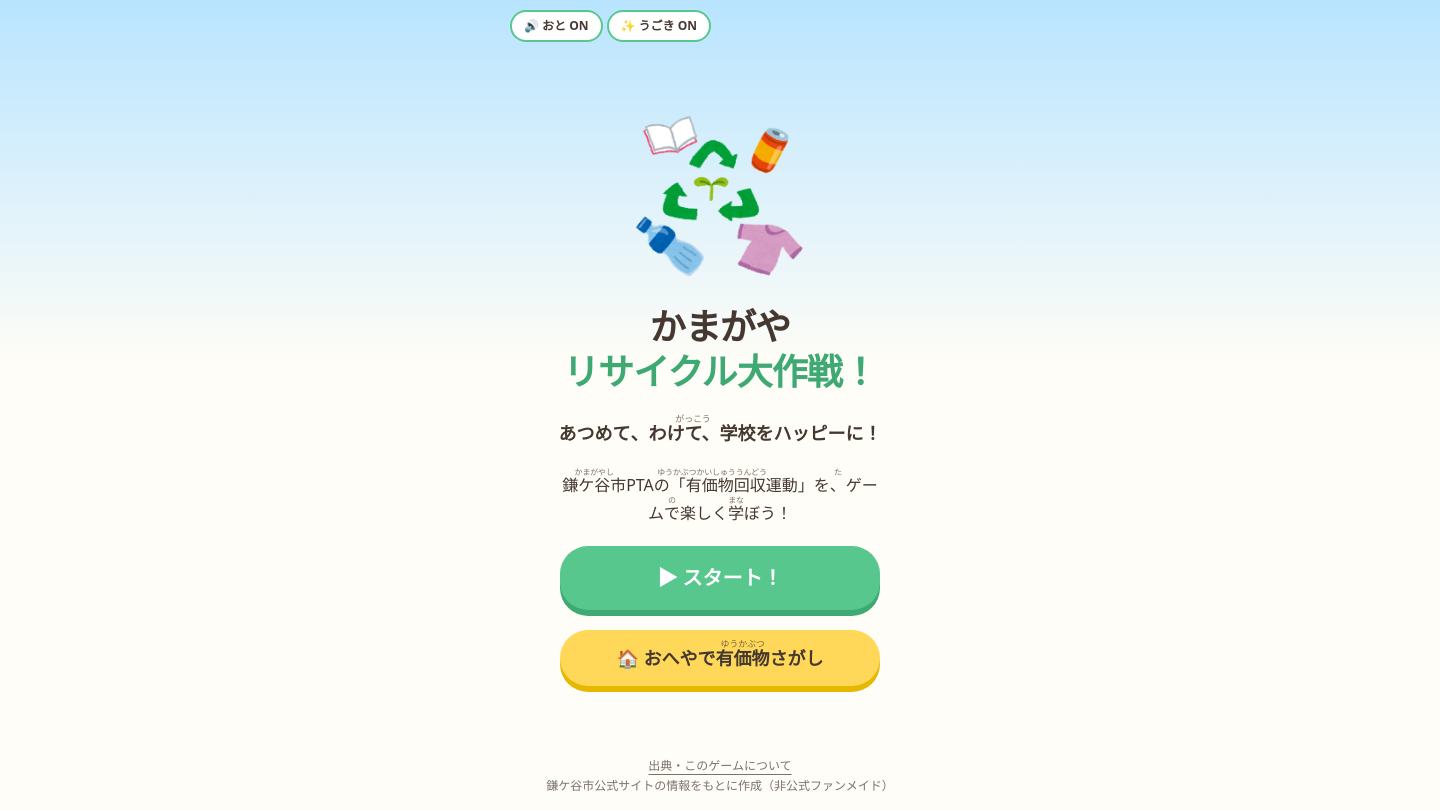
Test: App › タイトル画面からステージ1に進める
Expected: the element with test id "screen-title" is shown, [496, 0, 944, 809]
Click the button with test id "start" at (720, 578), box [560, 546, 880, 610]
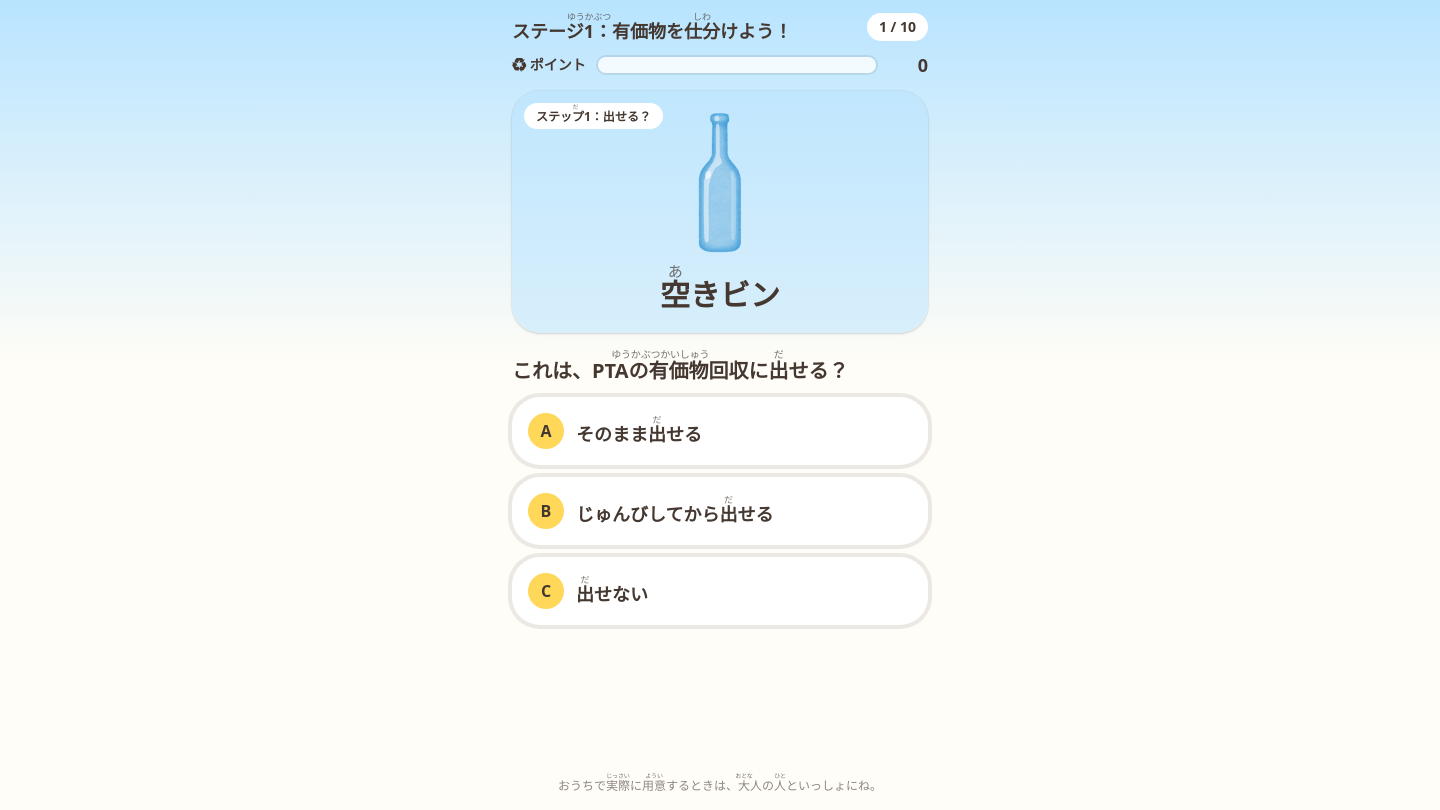
Now the element with test id "screen-stage1" is shown, box [496, 0, 944, 809]
